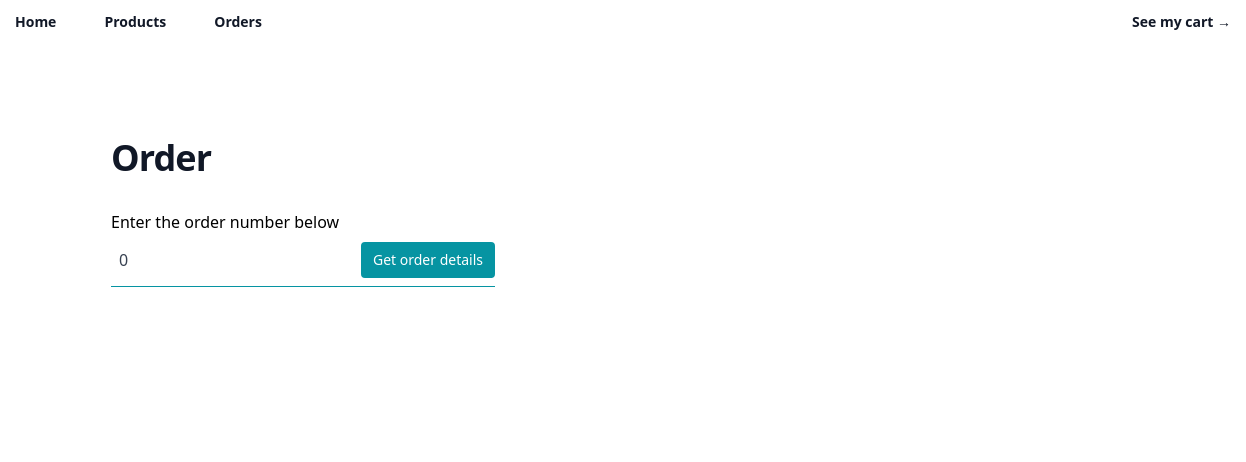
Test: Orders page › should show an info message if order number doesn't exist
The width and height of the screenshot is (1246, 462).
Step 1. Replace the text in the number field named "Order" with "999" → (230, 260), box [111, 246, 349, 274]
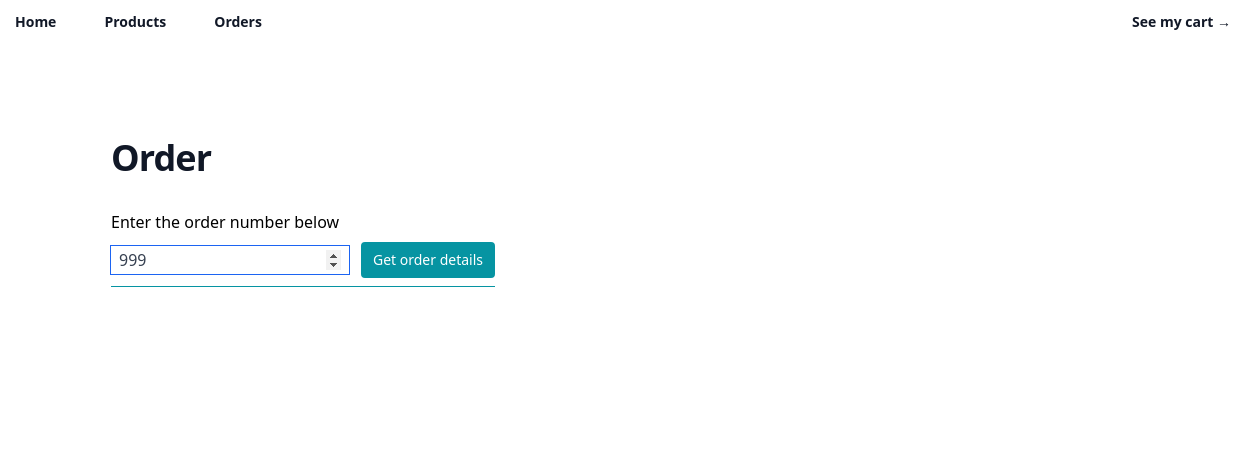
Step 2. Click the button with test id "order-details-button" → (428, 260), box [361, 242, 495, 278]
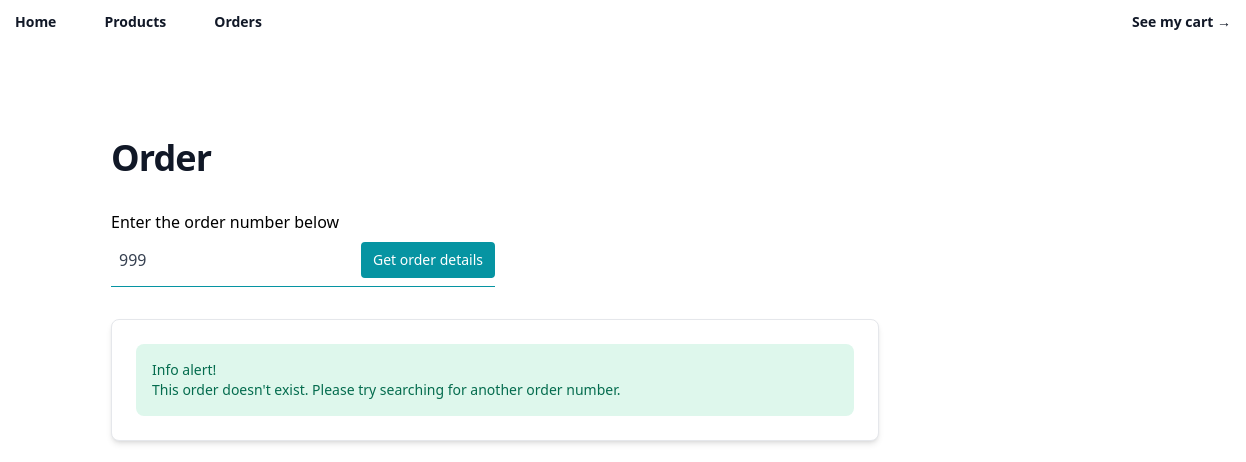
Expected: the text "This order doesn't exist. Please try searching for another order number" is shown, [152, 380, 620, 399]
